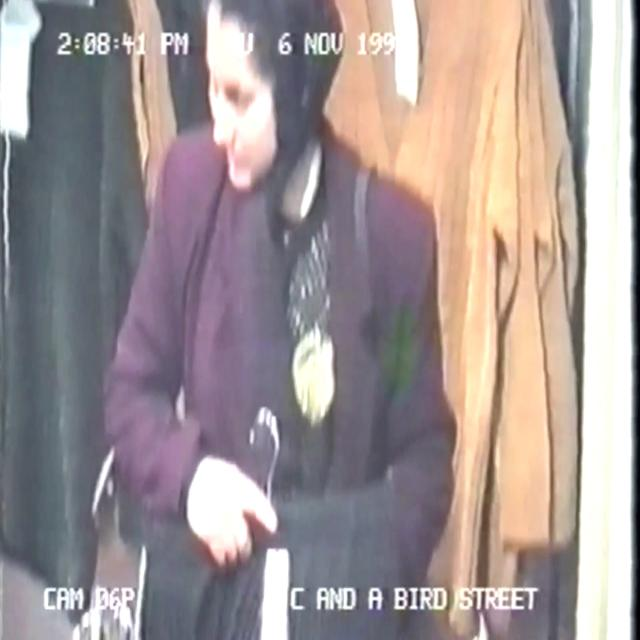Product: (150, 478, 401, 640)
shoplifting: (114, 3, 472, 640)
